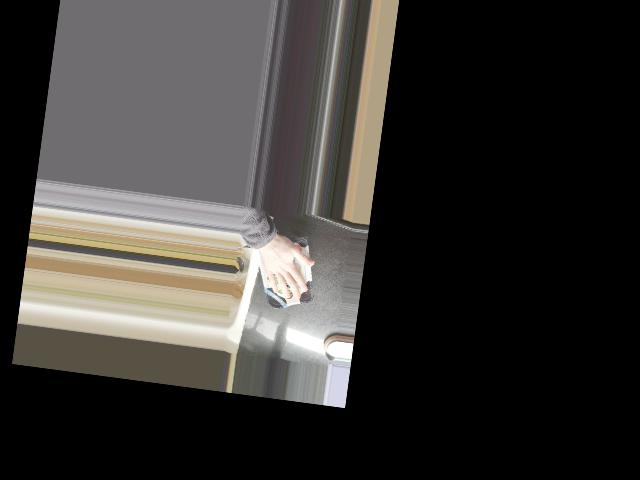cheese: (246, 230, 322, 314)
